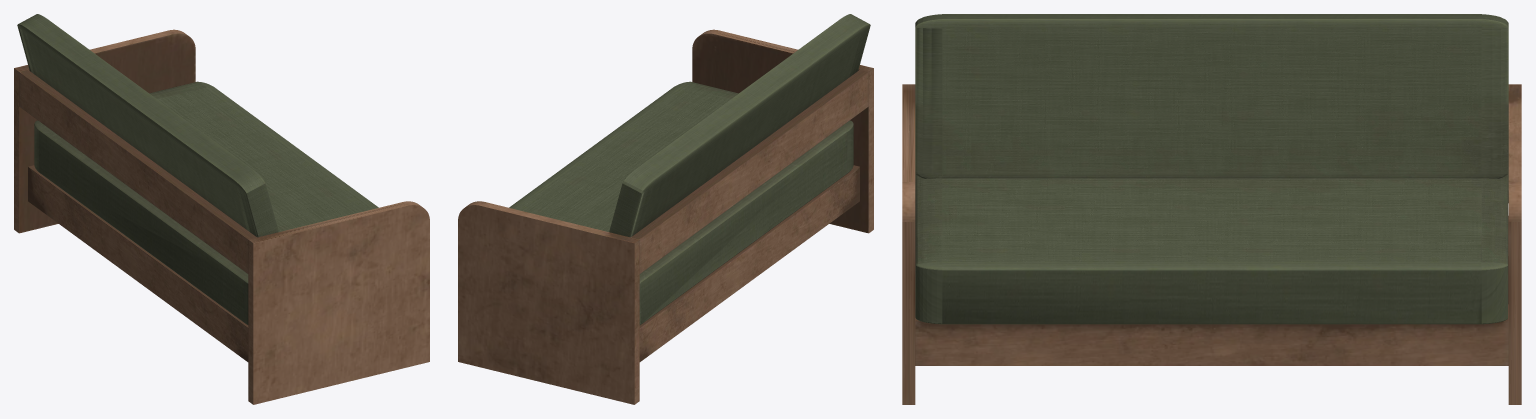
File: sofa_compressed.glb
The picture shows the model from 3 angles, left to right: view 1: azimuth 30°, elevation 25°; view 2: azimuth 150°, elevation 25°; view 3: azimuth 270°, elevation 25°; orthographic projection. The views are drawn at different scales.
Parts seen in each view (by area): view 1: Sofa_wood, Sofa_cushion; view 2: Sofa_wood, Sofa_cushion; view 3: Sofa_cushion, Sofa_wood.
Boxes of the visible parts, x1,y1,x2,y2 form: Sofa_wood: [14, 29, 429, 404]; Sofa_cushion: [17, 14, 378, 324]; Sofa_wood: [458, 29, 873, 404]; Sofa_cushion: [509, 14, 870, 324]; Sofa_cushion: [915, 14, 1508, 324]; Sofa_wood: [902, 84, 1521, 404].
Size of the model in its own units: 7.61 by 8.46 by 16.69.
Materials: 2 (2 with a texture image).
